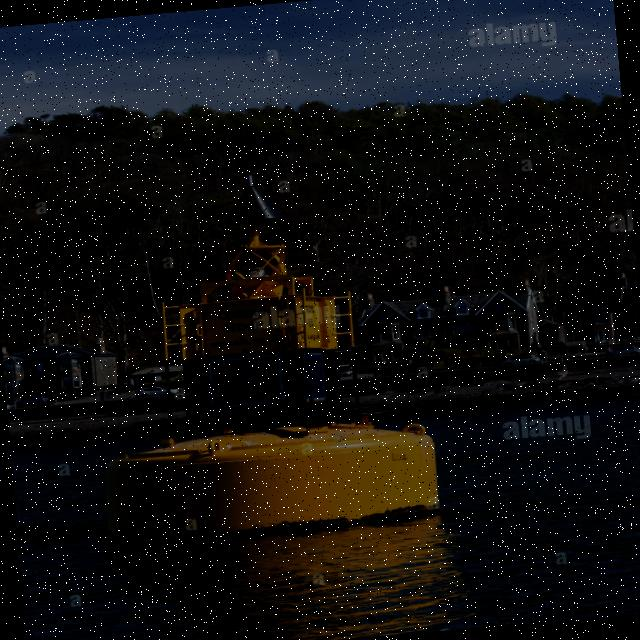marque: (58, 117, 441, 548)
